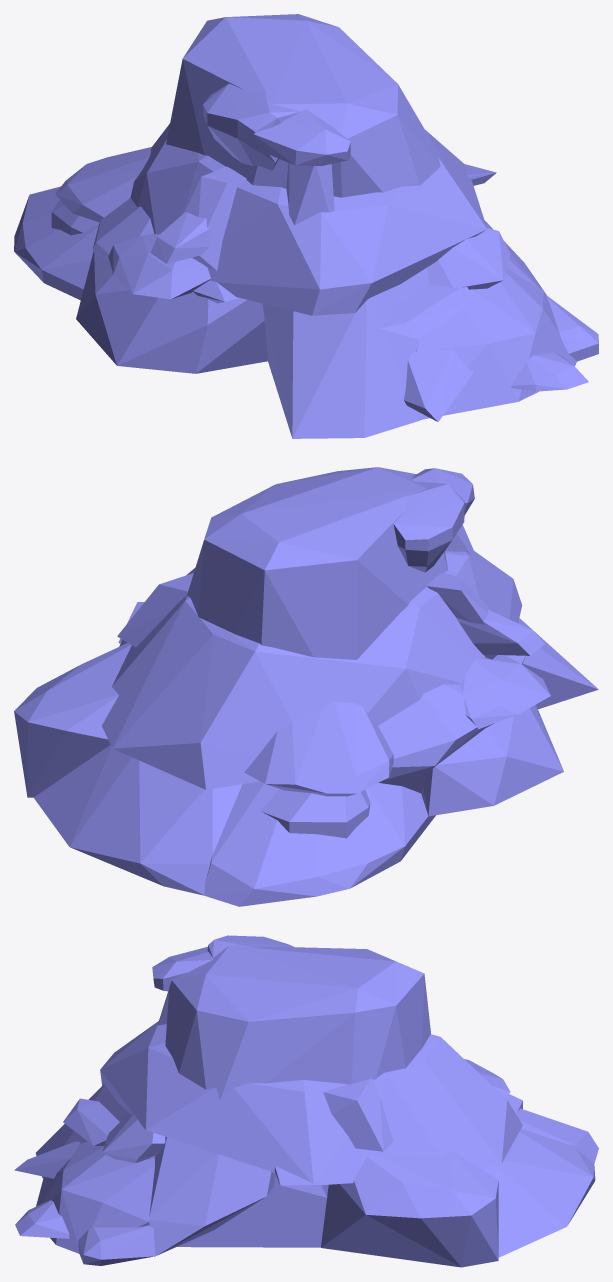
Rendered from Ledge_01_Taper_Collider_01.FBX.
3 renders of one model, top to bottom at view 1: azimuth 30°, elevation 25°; view 2: azimuth 150°, elevation 25°; view 3: azimuth 270°, elevation 25°, orthographic. The views are drawn at different scales.
Parts seen in each view (by area): view 1: COLLIDER6, COLLIDER1, COLLIDER11, COLLIDER10, COLLIDER18, COLLIDER14, COLLIDER3, COLLIDER9, COLLIDER15, COLLIDER2, COLLIDER19, COLLIDER24 (+9 smaller); view 2: COLLIDER6, COLLIDER1, COLLIDER13, COLLIDER14, COLLIDER15, COLLIDER5, COLLIDER10, COLLIDER17, COLLIDER9, COLLIDER3, COLLIDER16, COLLIDER8 (+4 smaller); view 3: COLLIDER1, COLLIDER6, COLLIDER5, COLLIDER21, COLLIDER13, COLLIDER18, COLLIDER11, COLLIDER4, COLLIDER22, COLLIDER24, COLLIDER14, COLLIDER23 (+6 smaller).
Part boxes in pixels (x1,y1,x2,y2): COLLIDER6: [130, 123, 487, 315]; COLLIDER1: [166, 14, 444, 197]; COLLIDER11: [262, 267, 429, 438]; COLLIDER10: [76, 252, 267, 373]; COLLIDER18: [416, 268, 576, 419]; COLLIDER14: [14, 186, 98, 300]; COLLIDER3: [203, 84, 300, 170]; COLLIDER9: [108, 234, 210, 299]; COLLIDER15: [55, 147, 151, 222]; COLLIDER2: [253, 109, 350, 166]; COLLIDER19: [404, 349, 473, 421]; COLLIDER24: [427, 228, 510, 289]; COLLIDER6: [102, 551, 522, 789]; COLLIDER1: [187, 467, 447, 659]; COLLIDER13: [33, 745, 242, 895]; COLLIDER14: [204, 781, 435, 906]; COLLIDER15: [244, 702, 393, 796]; COLLIDER5: [14, 643, 131, 797]; COLLIDER10: [421, 704, 563, 816]; COLLIDER17: [378, 655, 525, 793]; COLLIDER9: [460, 655, 550, 729]; COLLIDER3: [394, 481, 464, 572]; COLLIDER16: [261, 789, 370, 838]; COLLIDER8: [118, 602, 544, 655]; COLLIDER1: [165, 945, 431, 1100]; COLLIDER6: [100, 1021, 522, 1185]; COLLIDER5: [321, 1151, 498, 1267]; COLLIDER21: [149, 1136, 274, 1256]; COLLIDER13: [482, 1128, 595, 1257]; COLLIDER18: [36, 1142, 154, 1253]; COLLIDER11: [36, 1084, 328, 1247]; COLLIDER4: [323, 1078, 393, 1151]; COLLIDER22: [78, 1225, 155, 1265]; COLLIDER24: [102, 1113, 165, 1162]; COLLIDER14: [516, 1108, 598, 1163]; COLLIDER23: [63, 1098, 119, 1145].
Bounding box in the file's own units: 218 × 127 × 305.
